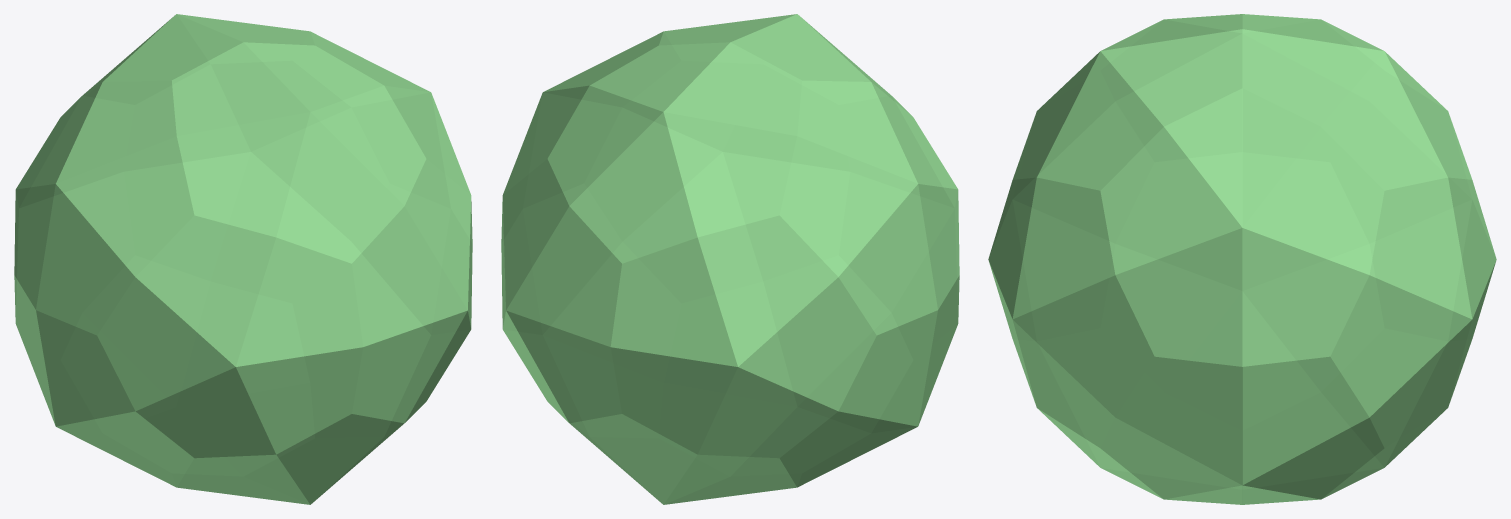
File: JoinedIcosidodecahedron.obj
3 renders of one model, left to right at view 1: azimuth 30°, elevation 25°; view 2: azimuth 150°, elevation 25°; view 3: azimuth 270°, elevation 25°, orthographic. The views are drawn at different scales.
Bounding box in the file's own units: 3.24 × 3.24 × 3.24.
